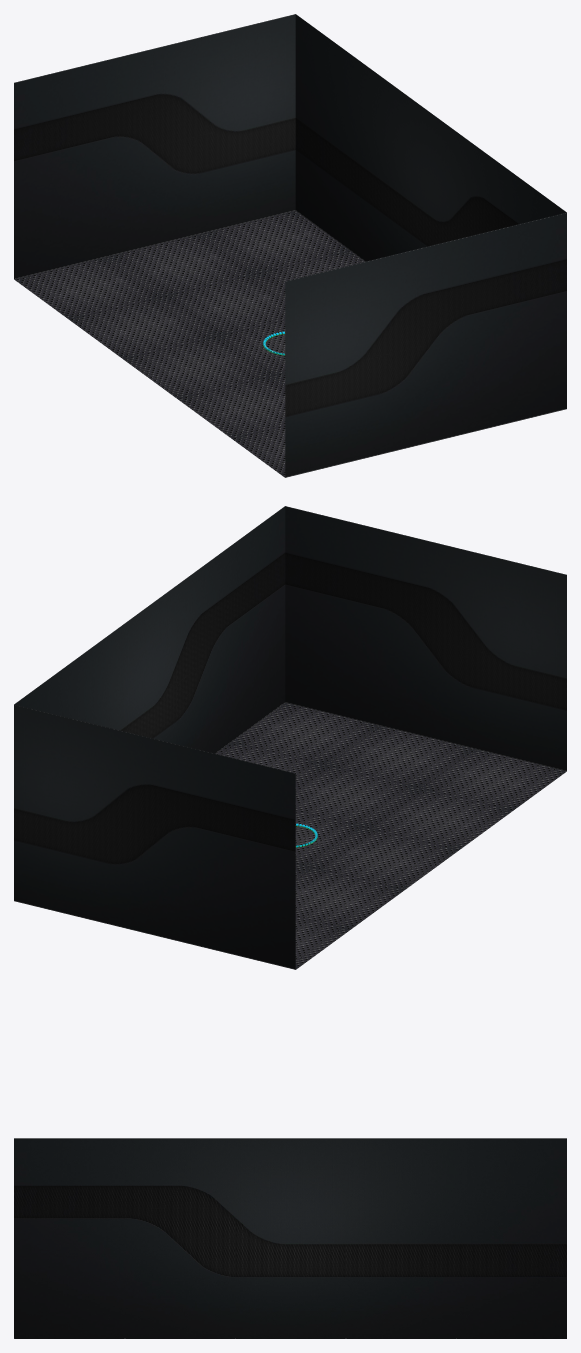
File: Home screen (1).fbx
3 views of the same model, one above another, from view 1: azimuth 30°, elevation 25°; view 2: azimuth 150°, elevation 25°; view 3: azimuth 270°, elevation 25° (orthographic).
Parts seen in each view (by area): view 1: wall2, wall3, ground, wall; view 2: wall2, wall3, ground, wall; view 3: wall.
Part boxes in pixels (x1=…): wall2: x1=285, y1=212, x2=566, y2=477; wall3: x1=14, y1=14, x2=295, y2=279; ground: x1=14, y1=210, x2=364, y2=477; wall: x1=295, y1=14, x2=566, y2=261; wall2: x1=285, y1=506, x2=566, y2=771; wall3: x1=14, y1=704, x2=295, y2=969; ground: x1=216, y1=702, x2=566, y2=969; wall: x1=14, y1=506, x2=285, y2=753; wall: x1=14, y1=1138, x2=566, y2=1338.
Size of the model in its own units: 150 by 100 by 250.
